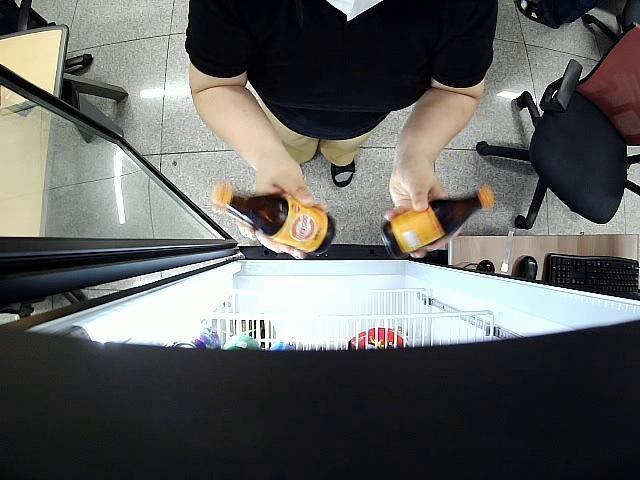17_vita500: (210, 182, 336, 258), (381, 185, 494, 258)
